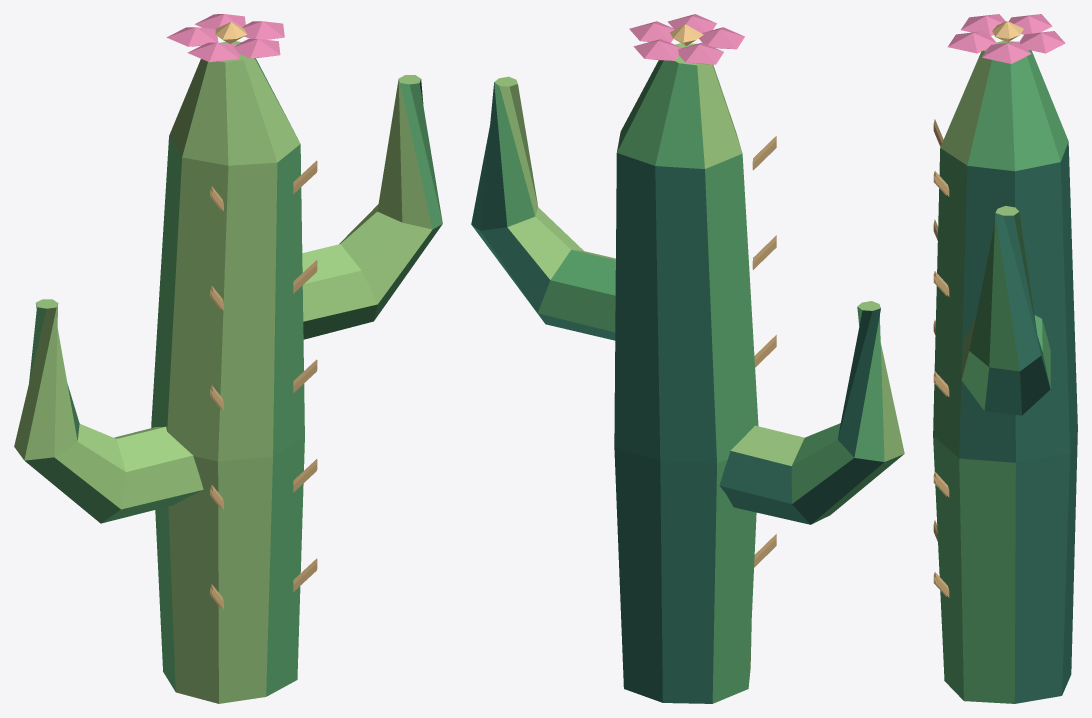
File: CactoRamificado.fbx
3 renders of one model, left to right at view 1: azimuth 30°, elevation 25°; view 2: azimuth 150°, elevation 25°; view 3: azimuth 270°, elevation 25°, orthographic.
Visible parts, largest first — view 1: CactoRamificado_Solido_2, CactoRamificado_Solido_3, CactoRamificado_Folha_5, CactoRamificado_Folha_4; view 2: CactoRamificado_Solido_1, CactoRamificado_Solido_3, CactoRamificado_Solido_2, CactoRamificado_Folha_5, CactoRamificado_Folha_4; view 3: CactoRamificado_Solido_1, CactoRamificado_Solido_3, CactoRamificado_Folha_5, CactoRamificado_Solido_2, CactoRamificado_Folha_4.
Boxes of the visible parts, x1=… form: CactoRamificado_Solido_2: x1=14, y1=41, x2=432, y2=703; CactoRamificado_Solido_3: x1=25, y1=58, x2=442, y2=696; CactoRamificado_Folha_5: x1=166, y1=14, x2=284, y2=62; CactoRamificado_Folha_4: x1=210, y1=22, x2=317, y2=608; CactoRamificado_Solido_1: x1=471, y1=82, x2=883, y2=703; CactoRamificado_Solido_3: x1=494, y1=60, x2=903, y2=703; CactoRamificado_Solido_2: x1=494, y1=43, x2=904, y2=686; CactoRamificado_Folha_5: x1=629, y1=14, x2=744, y2=64; CactoRamificado_Folha_4: x1=670, y1=24, x2=776, y2=567; CactoRamificado_Solido_1: x1=959, y1=142, x2=1077, y2=703; CactoRamificado_Solido_3: x1=933, y1=50, x2=1068, y2=703; CactoRamificado_Folha_5: x1=948, y1=14, x2=1065, y2=63; CactoRamificado_Solido_2: x1=940, y1=41, x2=1028, y2=378; CactoRamificado_Folha_4: x1=933, y1=21, x2=1023, y2=597.
Bounding box in the file's own units: 487 × 722 × 144.
